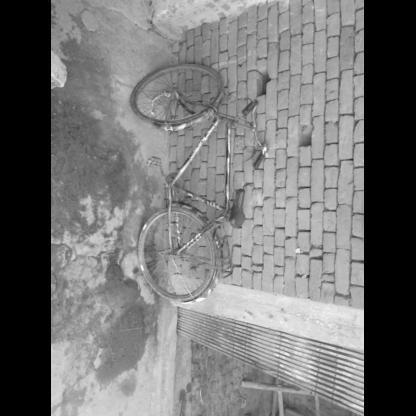Bicycle: (128, 38, 278, 326)
